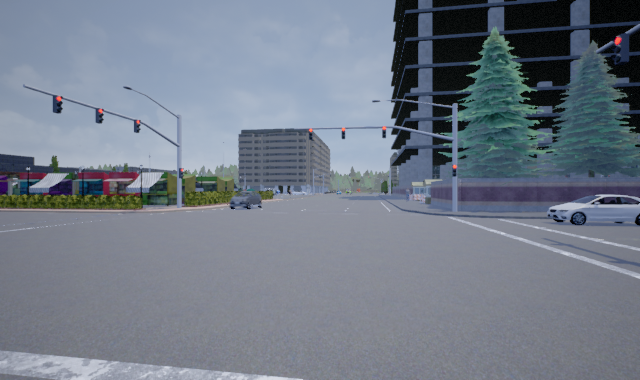pedestrian: (404, 186, 411, 202)
vehicle: (546, 194, 639, 224), (228, 191, 262, 210)
